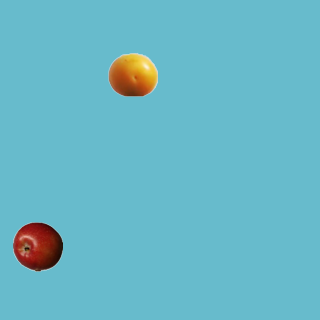Apple Braeburn: (12, 221, 62, 271)
Cherry Wax Yellow: (107, 49, 157, 99)
